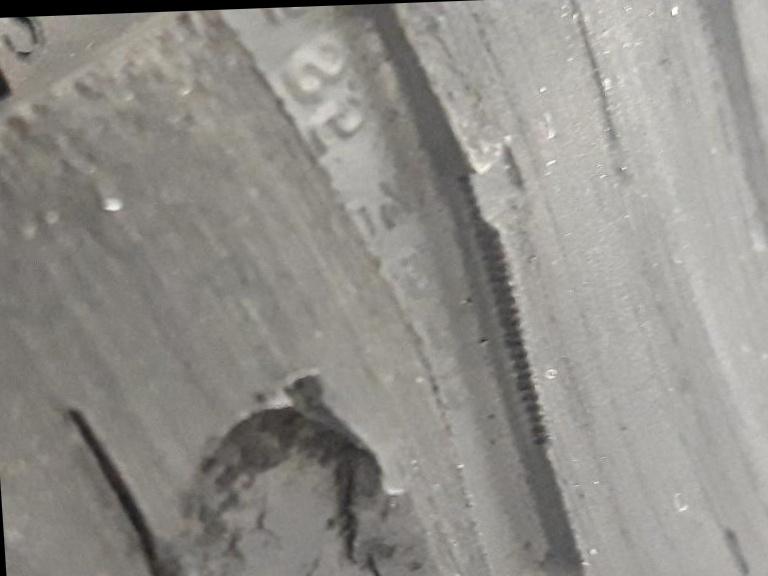temoin:0: (441, 131, 557, 254)
